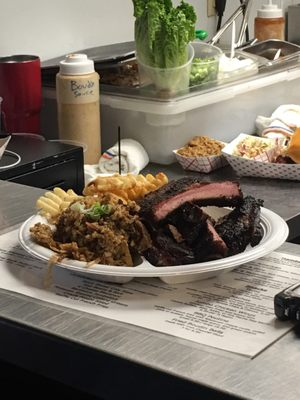pizza: (0, 54, 43, 136)
sushi: (172, 135, 230, 174)
